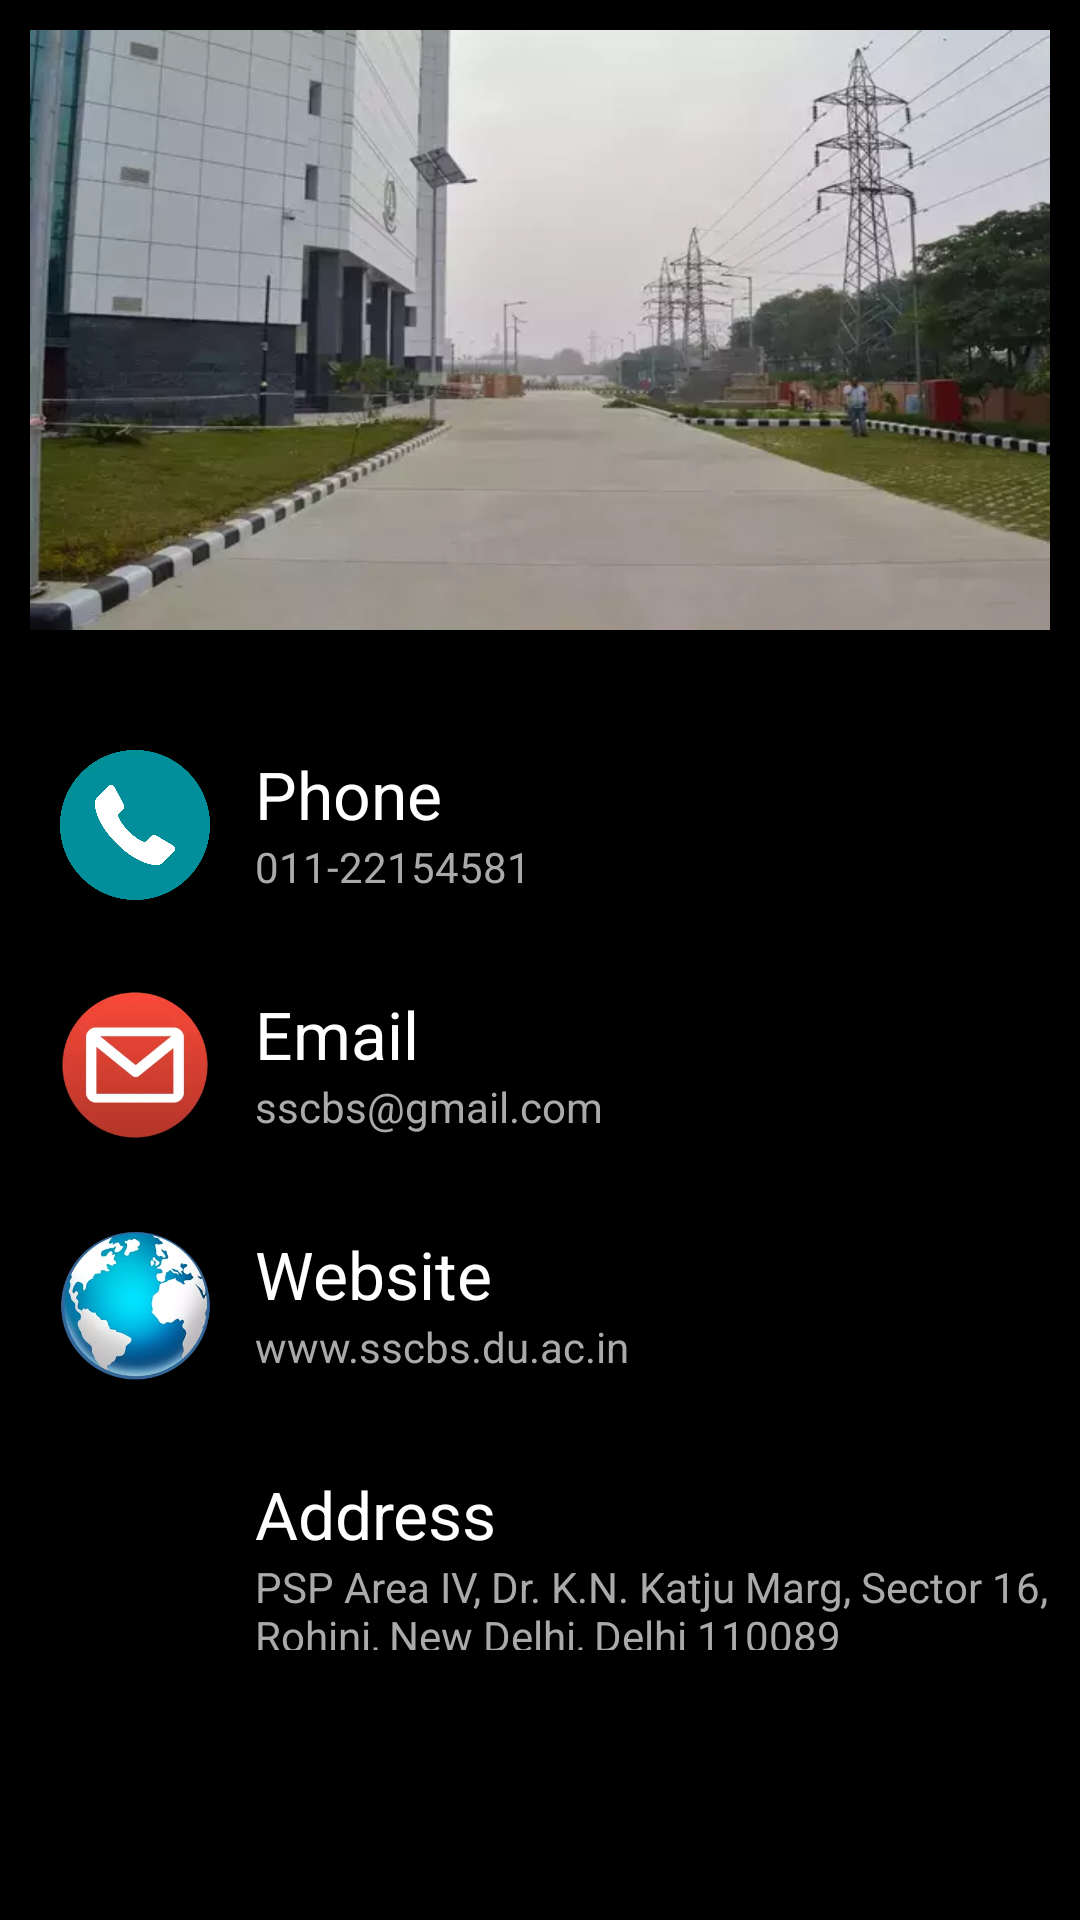

Locate icon controls on the screen. Image size 1080×1920, boxes as Rect(x1, y1, x2, y2).
web: Rect(61, 1232, 210, 1380)
